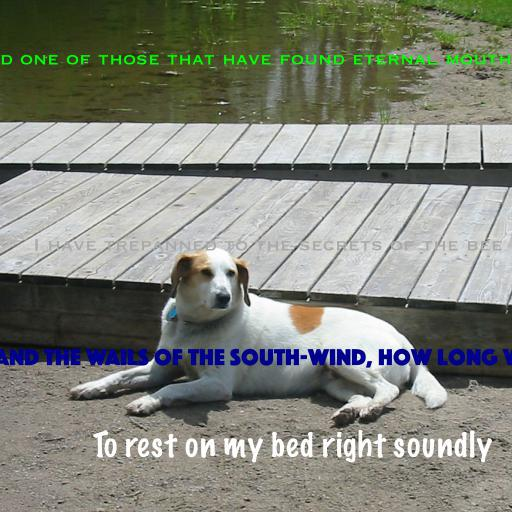Copperplate: (0, 53, 512, 65), (33, 239, 503, 251)
Marker Felt: (92, 429, 492, 463)
Phosphate: (0, 348, 512, 368)
